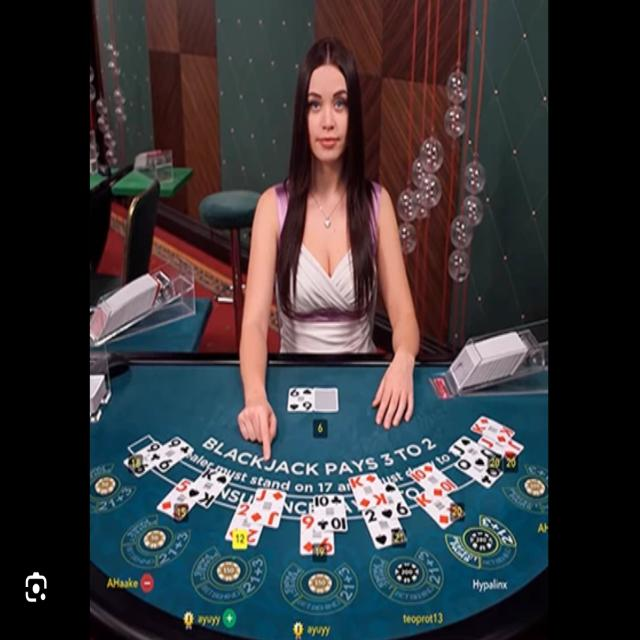Card-10: (408, 462, 458, 501), (315, 495, 347, 530)
Card-2: (362, 509, 407, 548), (225, 501, 263, 546)
Card-5: (156, 478, 196, 521)
Card-6: (288, 388, 313, 412)
Card-9: (148, 437, 193, 473), (123, 442, 162, 478), (376, 482, 411, 520), (301, 515, 333, 555)
Card-J: (449, 435, 495, 470), (248, 488, 287, 527), (478, 435, 524, 461)
Card-K: (414, 490, 466, 529), (185, 466, 231, 509), (349, 472, 390, 510), (470, 415, 515, 446)
Card-Q: (455, 458, 503, 489)
